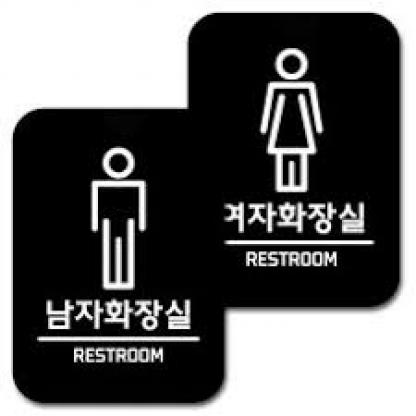toilet: (258, 46, 328, 197), (86, 146, 154, 292)
